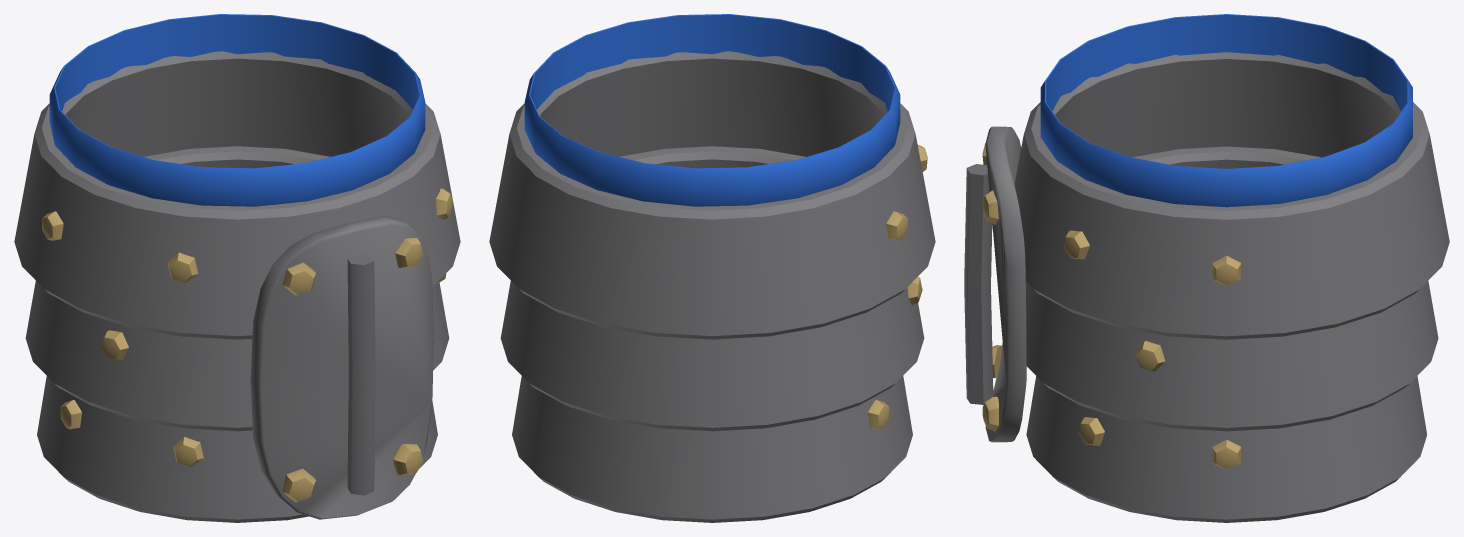
The model's file is Kit_Deco_Gauntlet_S.glb.
3 views of the same model, side by side, from view 1: azimuth 30°, elevation 25°; view 2: azimuth 150°, elevation 25°; view 3: azimuth 270°, elevation 25° (orthographic).
Visible parts, largest first — view 1: Kit_Deco_Gauntlet_S; view 2: Kit_Deco_Gauntlet_S; view 3: Kit_Deco_Gauntlet_S.
Part boxes in pixels (<box>): Kit_Deco_Gauntlet_S: <box>14,14,460,522</box>; Kit_Deco_Gauntlet_S: <box>489,14,935,522</box>; Kit_Deco_Gauntlet_S: <box>964,14,1449,522</box>.
Bounding box in the file's own units: 0.1769 × 0.1527 × 0.1926.
